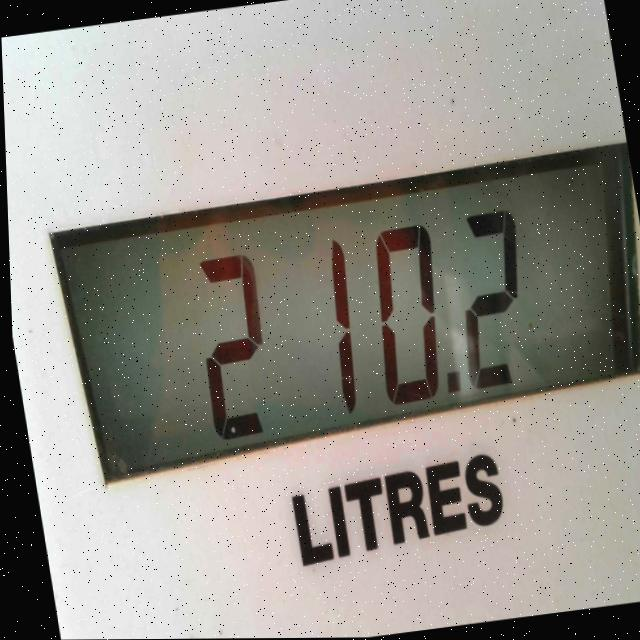.: (429, 361, 469, 408)
0: (354, 220, 454, 420)
1: (293, 228, 381, 427)
2: (160, 238, 308, 446), (441, 192, 554, 398)
